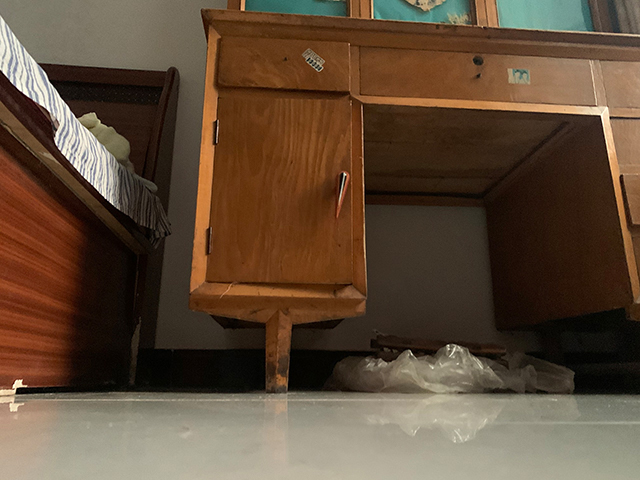bed: (1, 16, 181, 397)
cabinet: (187, 1, 640, 393)
